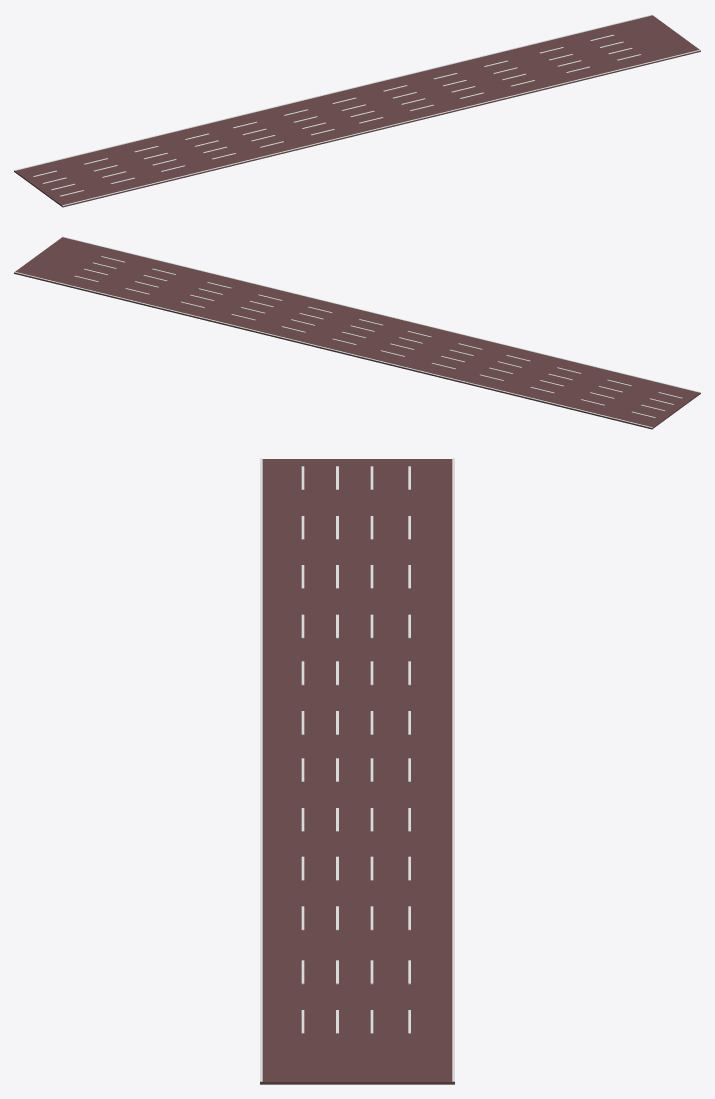
The model's file is chedao_05.FBX.
3 views of the same model, one above another, from view 1: azimuth 30°, elevation 25°; view 2: azimuth 150°, elevation 25°; view 3: azimuth 270°, elevation 25° (orthographic). The views are drawn at different scales.
Parts seen in each view (by area): view 1: chedao_05; view 2: chedao_05; view 3: chedao_05.
Boxes of the visible parts, left/top/right/bottom form: chedao_05: left=14, top=14, right=700, bottom=207; chedao_05: left=14, top=236, right=700, bottom=429; chedao_05: left=260, top=458, right=454, bottom=1084.
Bounding box in the file's own units: 19138 × 46.66 × 2534.
